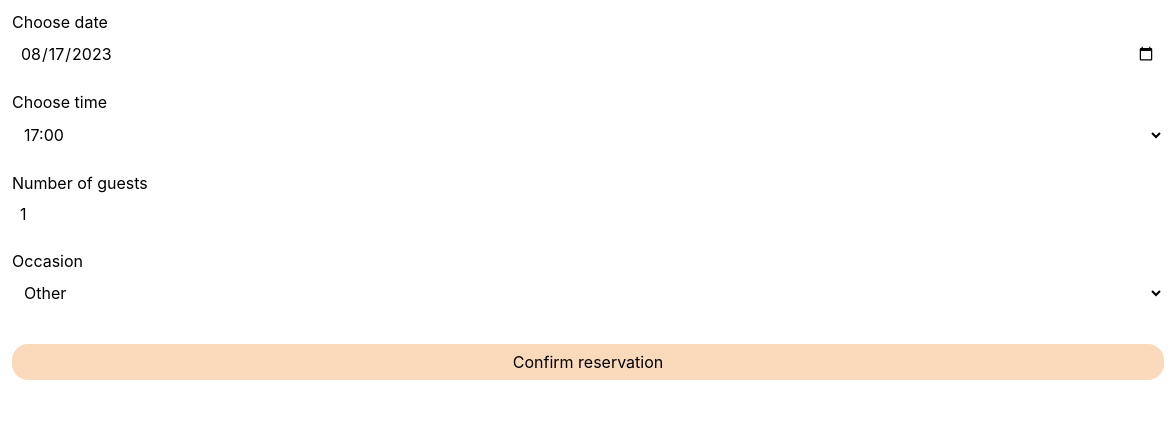
Time input errors correctly.
Select "" in the dropdown labelled "Choose time" at (588, 135), box [12,116,1164,154]
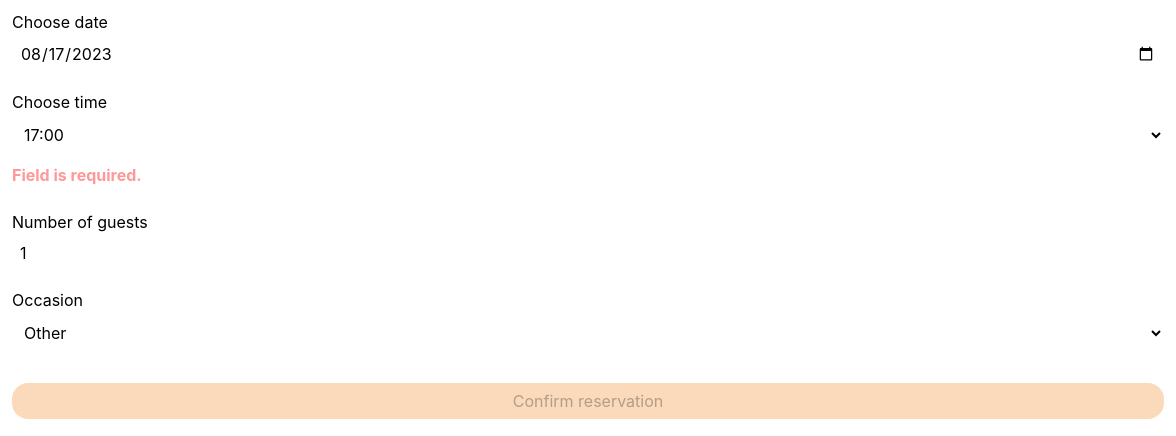
Check: the text "Field is required." is shown, box [12,165,142,185]
